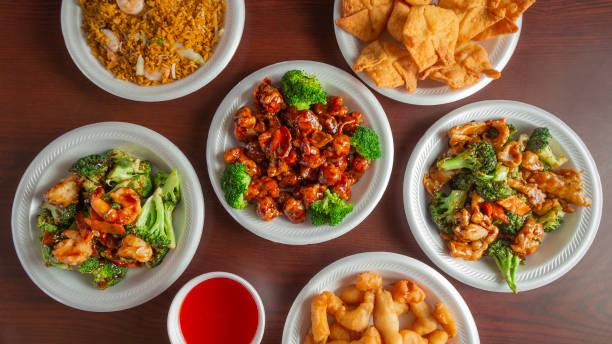Braised Crucian Carp: (402, 99, 600, 294), (11, 121, 205, 314), (208, 59, 392, 246), (333, 0, 516, 107), (280, 250, 480, 342), (60, 0, 240, 101)
